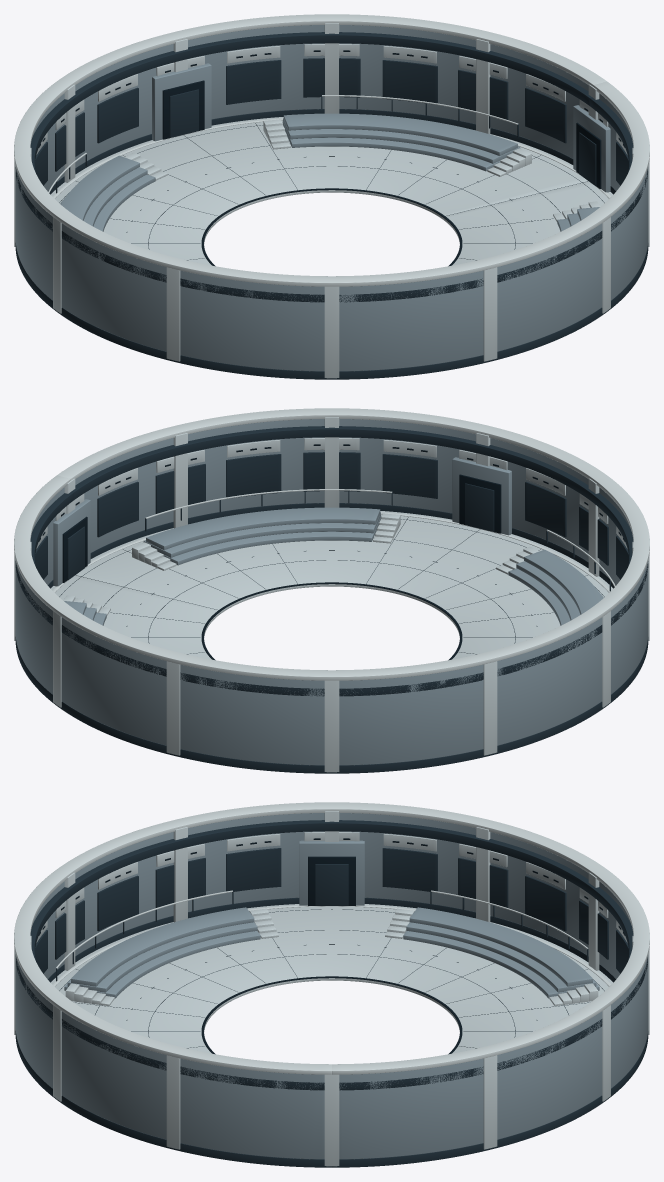
Rendered from SM_TestStadium_Structure.glb.
3 views of the same model, one above another, from view 1: azimuth 30°, elevation 25°; view 2: azimuth 150°, elevation 25°; view 3: azimuth 270°, elevation 25° (orthographic).
Parts seen in each view (by area): view 1: SM_TestStadium_Structure; view 2: SM_TestStadium_Structure; view 3: SM_TestStadium_Structure.
Boxes of the visible parts, box(x1,y1,x2,y2) form: SM_TestStadium_Structure: box(14, 14, 649, 379); SM_TestStadium_Structure: box(14, 408, 649, 773); SM_TestStadium_Structure: box(14, 802, 649, 1167).
Size of the model in its own units: 32.46 by 5.53 by 32.46.
